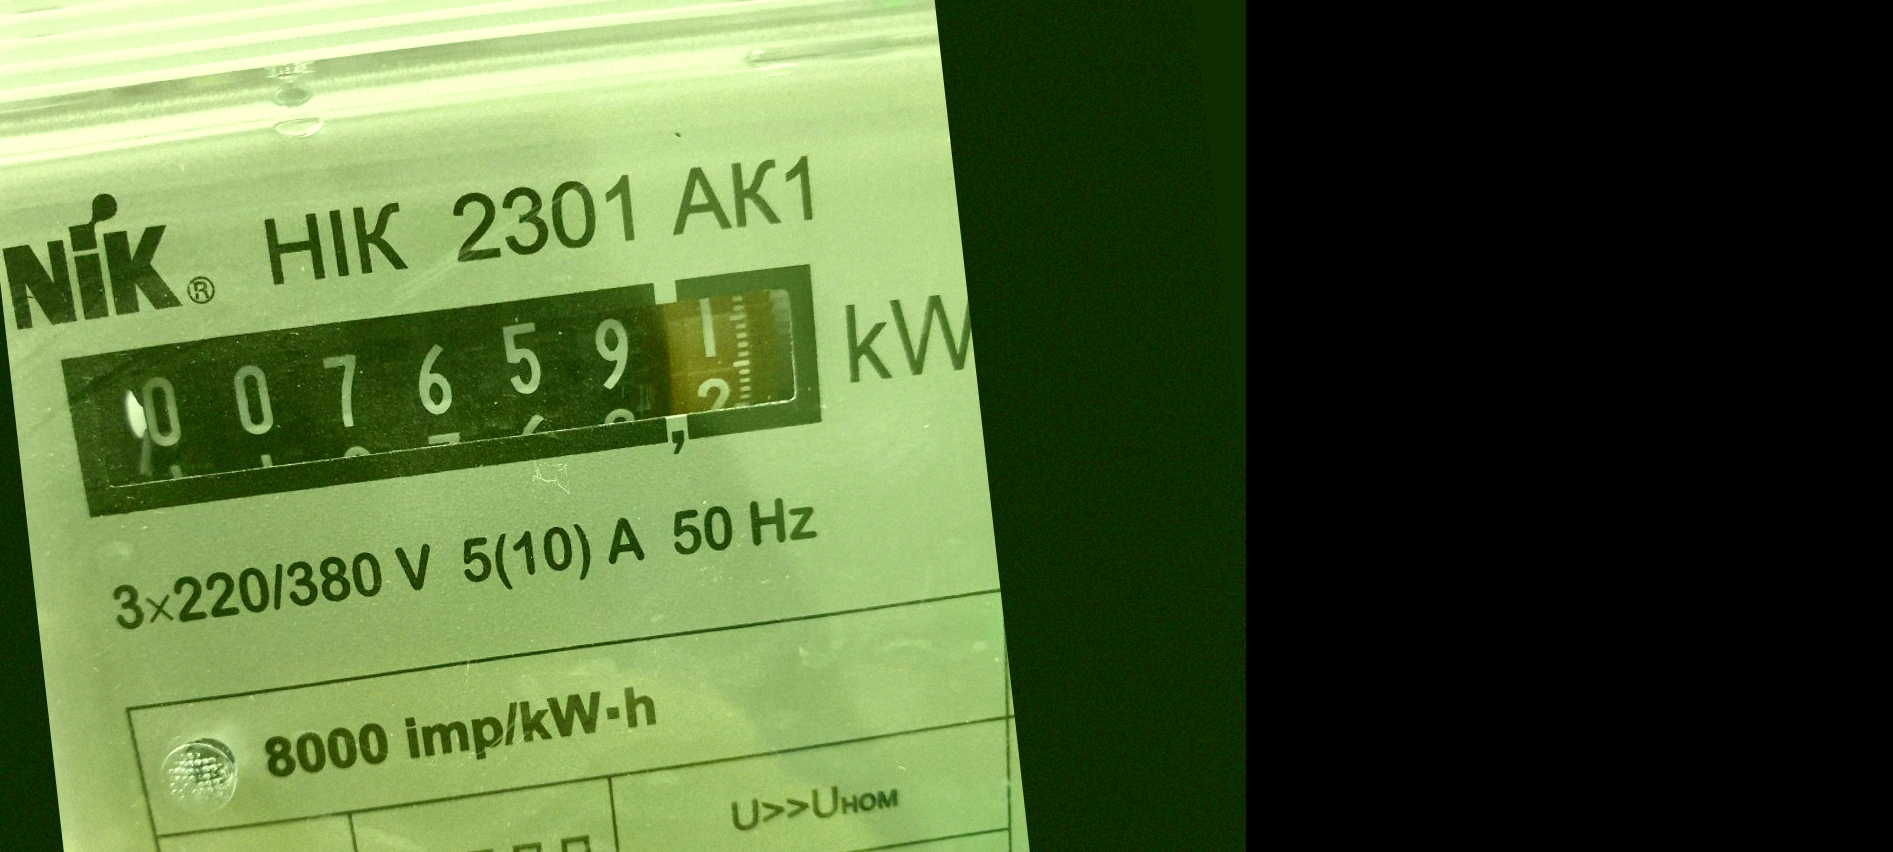0: (219, 352, 283, 443), (132, 363, 190, 459)
1: (688, 288, 730, 366)
5: (493, 314, 548, 401)
6: (402, 333, 462, 421)
7: (316, 345, 367, 434)
9: (586, 307, 637, 399)
screen: (37, 240, 850, 539)
